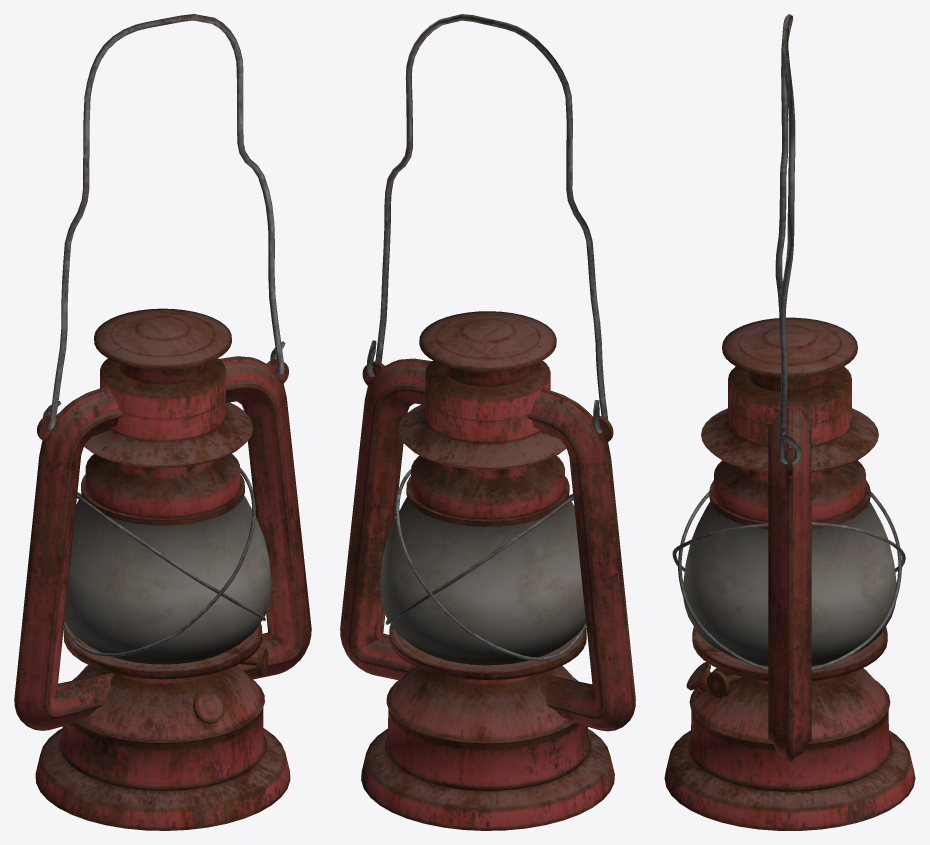
The model's file is Lantern.fbx.
The picture shows the model from 3 angles, left to right: view 1: azimuth 30°, elevation 25°; view 2: azimuth 150°, elevation 25°; view 3: azimuth 270°, elevation 25°; orthographic projection.
Visible parts, largest first — view 1: lantern_geometry; view 2: lantern_geometry; view 3: lantern_geometry.
Boxes of the visible parts, bbox=[...] form: lantern_geometry: bbox=[14, 14, 311, 830]; lantern_geometry: bbox=[340, 14, 635, 830]; lantern_geometry: bbox=[664, 14, 915, 830].
Bounding box in the file's own units: 21.77 × 53.6 × 16.31.
2 materials, 2 textured.
